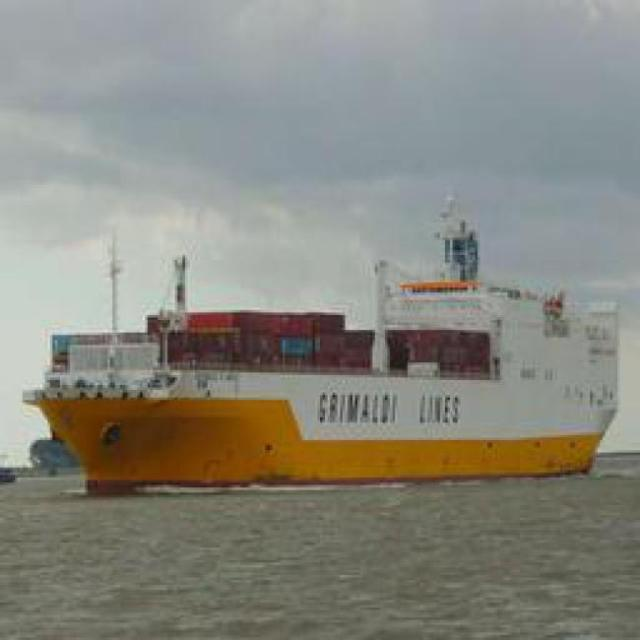boat: (38, 323, 628, 478)
